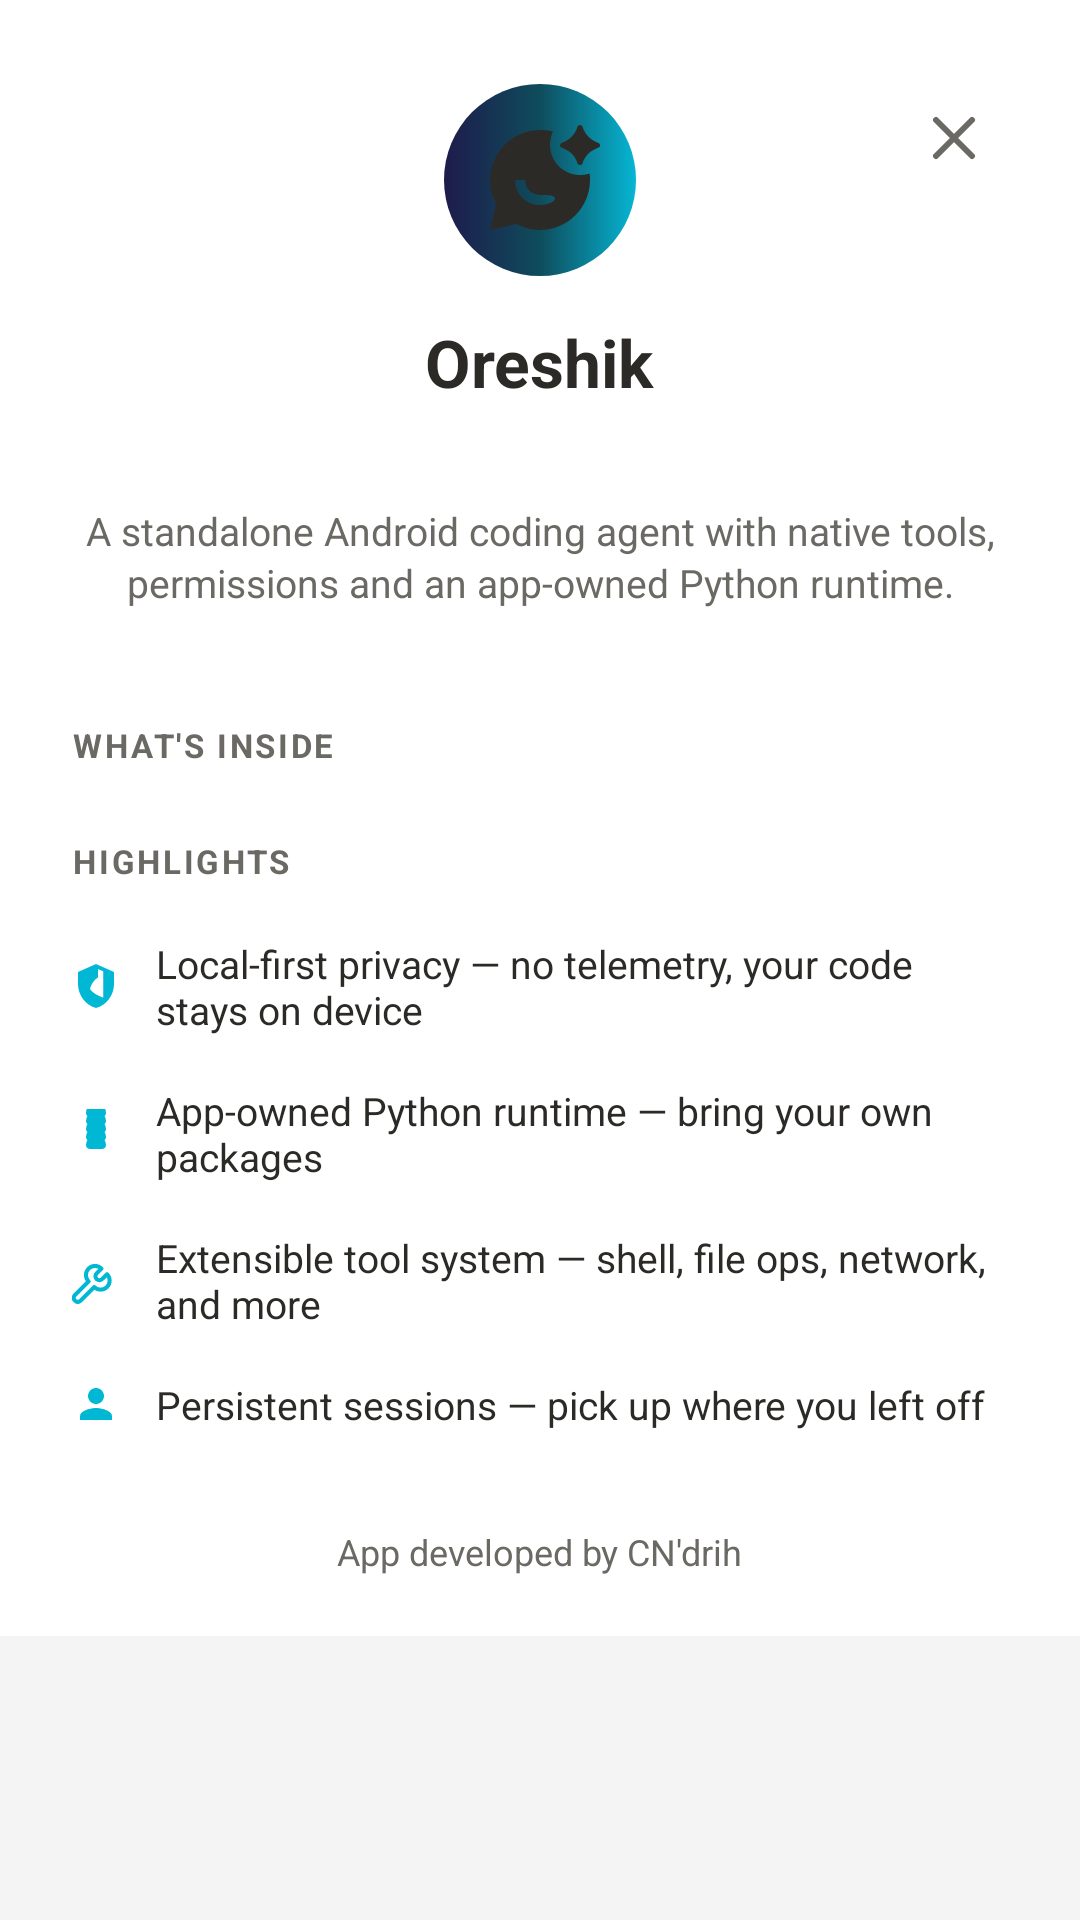

Screen size 1080×1920. Icon name, then its center in pixels as [x,y]:
Close: [954,138]
